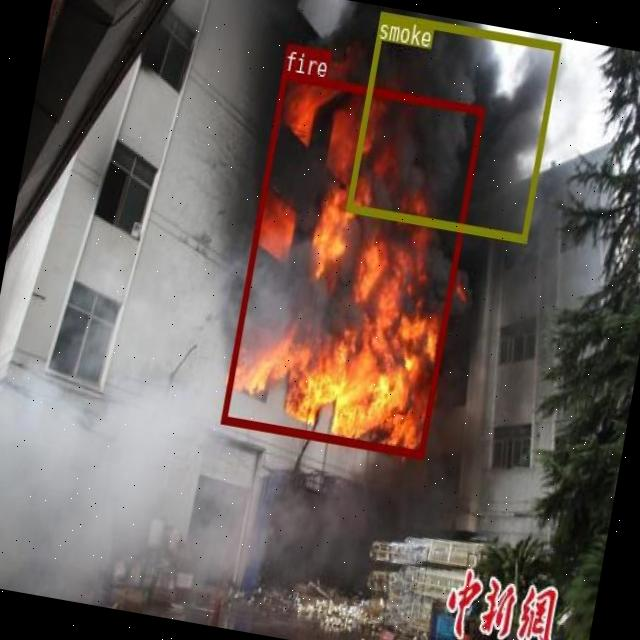fire: (220, 70, 484, 457)
smoke: (346, 10, 560, 241)
